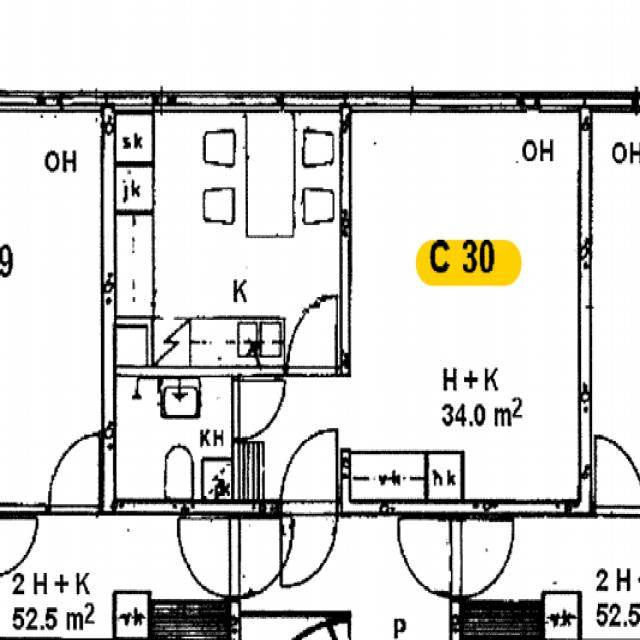door: (281, 424, 336, 516), (281, 500, 336, 591), (287, 298, 336, 376), (232, 381, 281, 439)
